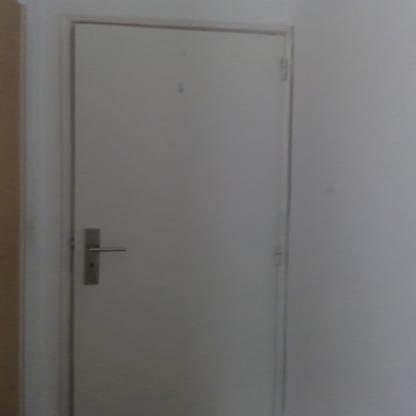door: (70, 21, 276, 416)
hinged: (278, 56, 290, 82), (274, 242, 284, 266)
lever: (89, 244, 128, 254)
